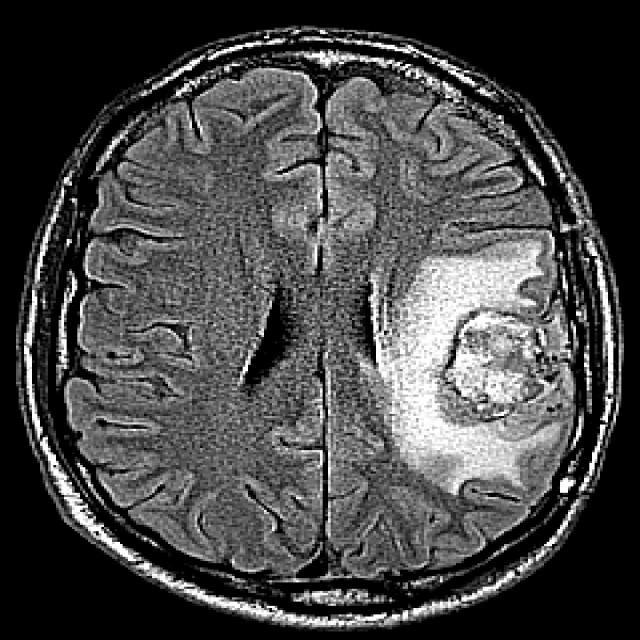Tumor-Cell: (391, 237, 553, 487)
